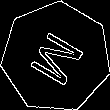M_SE: (23, 24, 89, 90)
